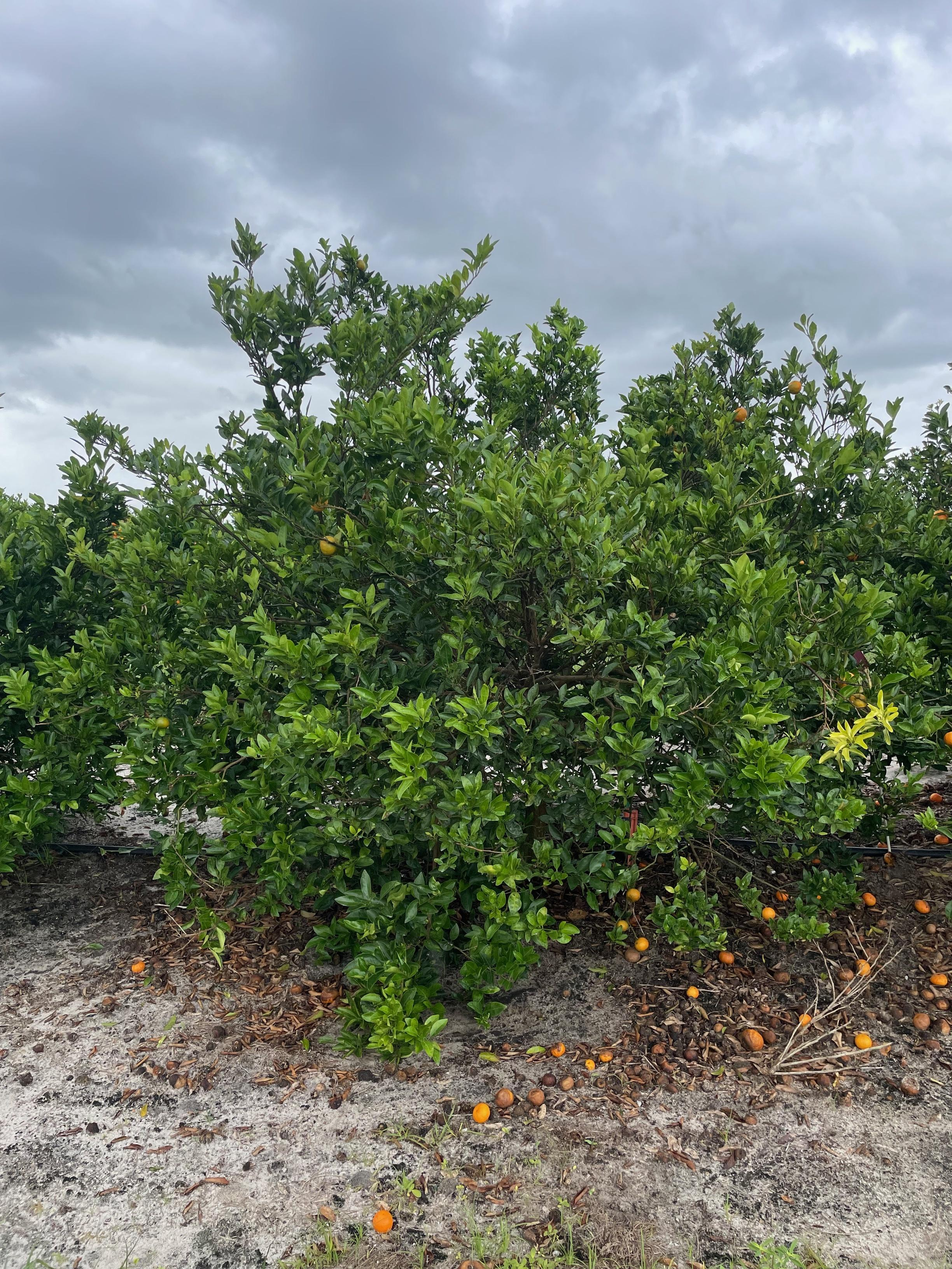fruit_on_ground: (317, 533, 340, 557), (835, 670, 859, 692), (308, 493, 330, 514), (849, 690, 868, 709), (930, 507, 950, 525), (731, 406, 749, 424), (624, 887, 642, 903), (154, 715, 171, 731), (941, 727, 952, 750), (787, 380, 803, 395), (355, 259, 367, 271)
fruit_on_tree: (371, 1207, 395, 1235), (739, 1026, 765, 1051), (471, 1100, 492, 1124), (494, 1085, 514, 1108), (912, 1011, 933, 1030), (853, 1030, 874, 1049), (854, 957, 873, 977), (716, 947, 736, 966), (548, 1039, 567, 1058), (759, 1027, 777, 1047), (621, 946, 641, 964), (526, 1086, 544, 1105), (836, 965, 856, 982), (930, 970, 950, 987), (633, 934, 650, 952), (924, 1035, 943, 1051), (913, 898, 932, 914), (129, 958, 146, 975), (541, 1070, 558, 1087), (760, 905, 778, 921), (651, 1041, 668, 1057), (796, 1012, 813, 1028), (559, 1075, 575, 1092), (861, 891, 877, 907), (774, 969, 791, 984), (614, 917, 631, 932), (933, 831, 950, 846), (684, 984, 701, 999), (937, 1017, 950, 1036), (919, 986, 935, 1001), (598, 1047, 614, 1062), (683, 1047, 698, 1061), (928, 790, 943, 804), (775, 888, 790, 902), (744, 1112, 760, 1125), (936, 997, 950, 1011), (583, 1057, 597, 1071), (712, 1020, 726, 1033), (924, 920, 938, 933), (759, 1003, 772, 1015), (876, 839, 888, 850)
